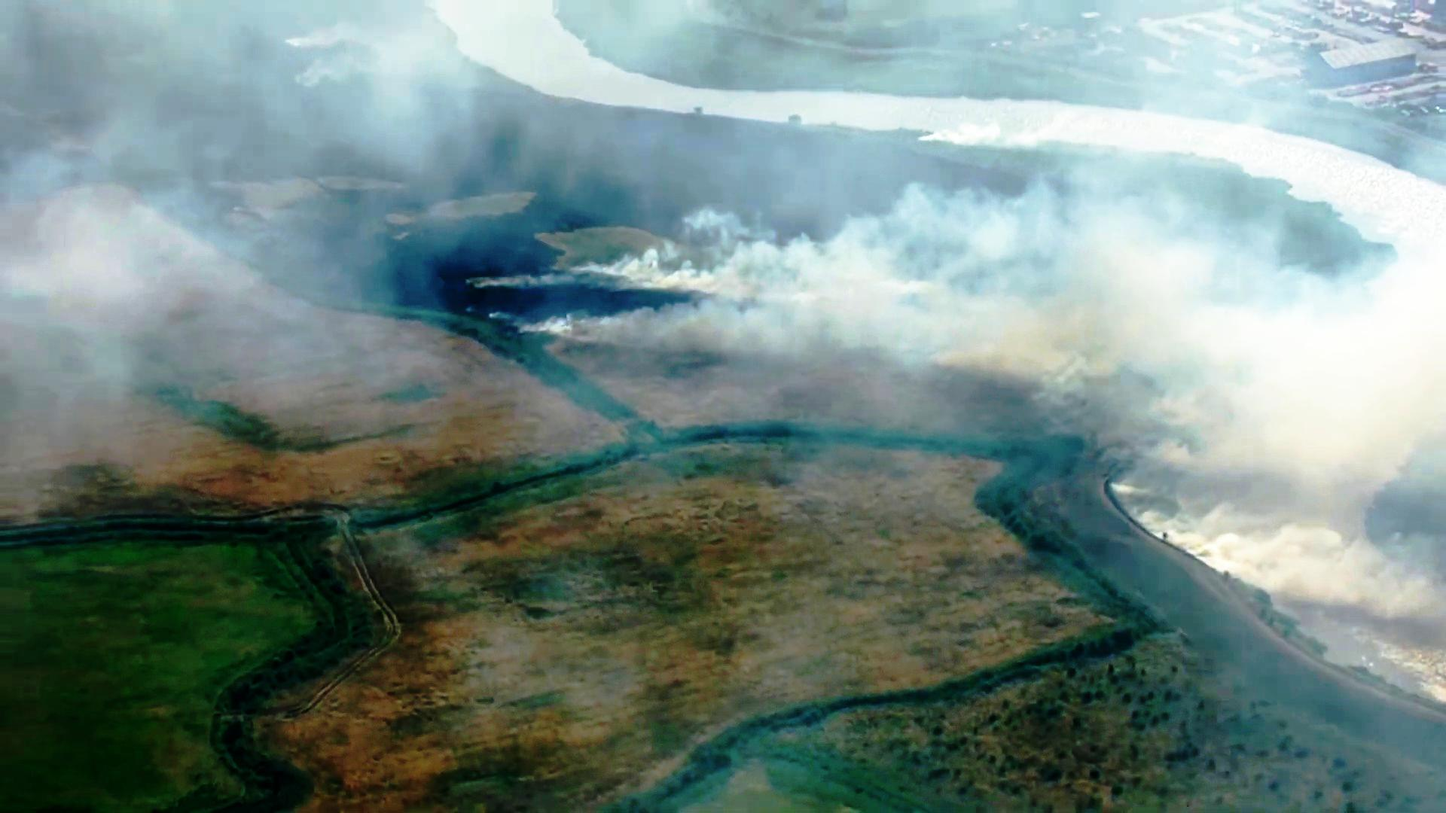smoke: (1194, 445, 1403, 580)
